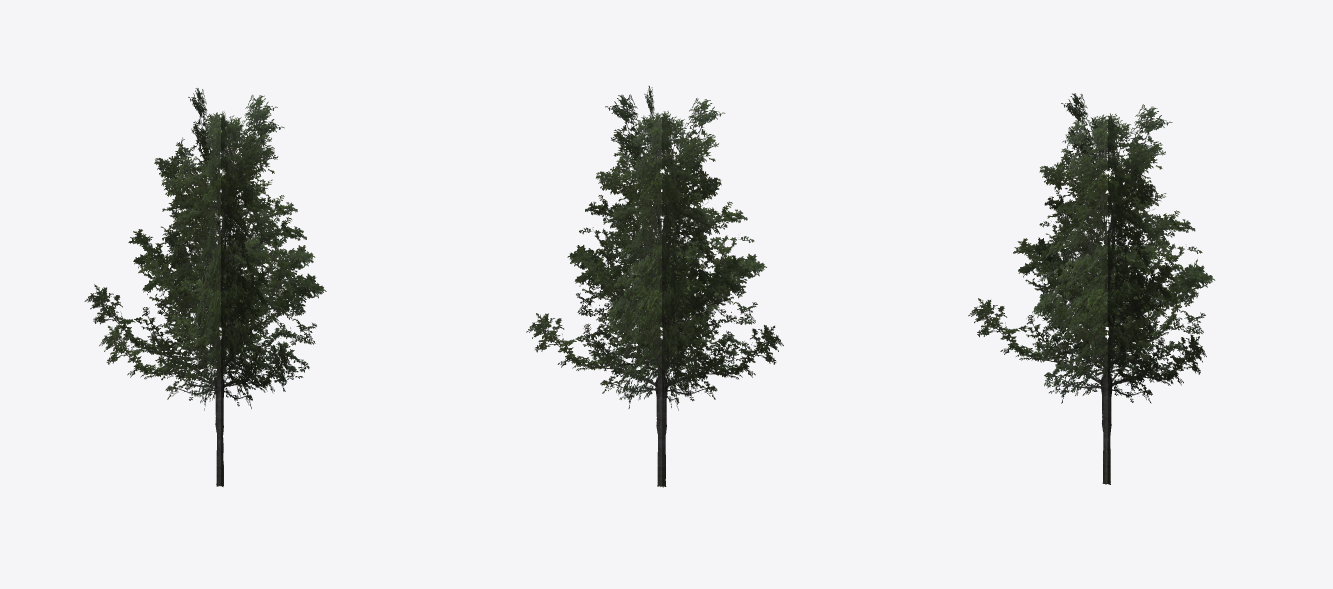
The model's file is Tree_03_STATIC.fbx.
3 views of the same model, side by side, from view 1: azimuth 30°, elevation 25°; view 2: azimuth 150°, elevation 25°; view 3: azimuth 270°, elevation 25° (orthographic).
Parts seen in each view (by area): view 1: Tree_03_Static; view 2: Tree_03_Static; view 3: Tree_03_Static.
Boxes of the visible parts, box(x1,y1,x2,y2) form: Tree_03_Static: box(84, 88, 326, 486); Tree_03_Static: box(526, 86, 783, 487); Tree_03_Static: box(968, 93, 1215, 484).
Size of the model in its own units: 1420 by 1420 by 1420.
